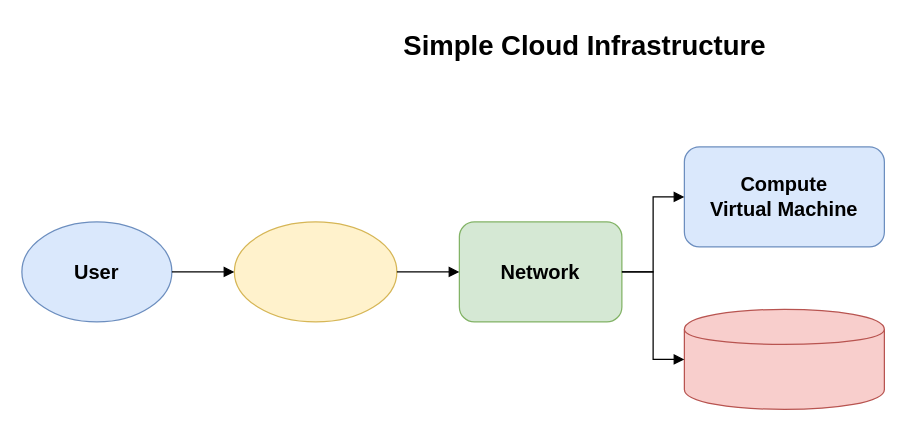
Some shapes in this 906 by 431 pixel diagram are drawn without their labels. The shapes that lost their labels are listed below. From the top down, each one's box as (x1, y1, x2, y2) in pixels, then its label:
(233, 221, 397, 322): Internet
(683, 308, 884, 409): Storage
